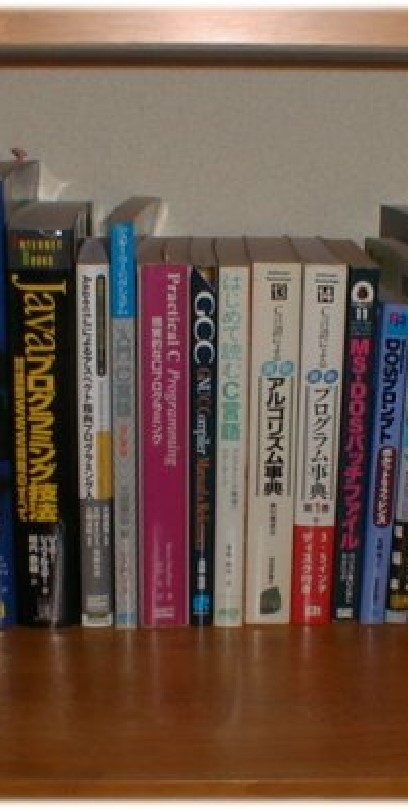book: (7, 218, 76, 631), (131, 262, 196, 634), (247, 258, 296, 629), (296, 261, 342, 624), (72, 259, 114, 632), (107, 217, 141, 634), (341, 251, 376, 627), (214, 257, 245, 634), (186, 261, 216, 634), (371, 297, 405, 620)
